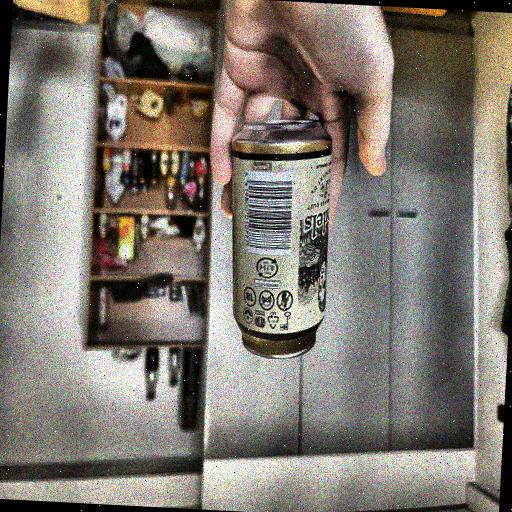sandels: (222, 120, 333, 365)
